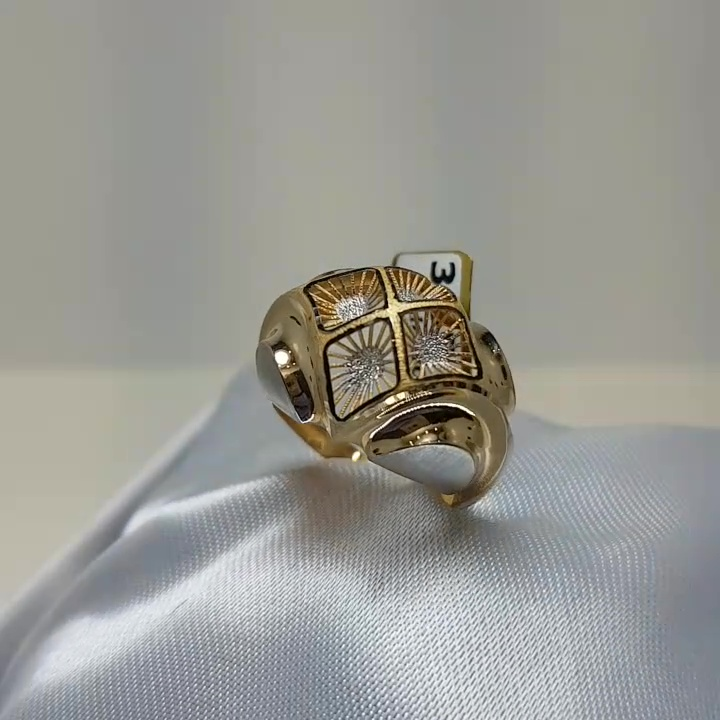Ring 2: (229, 246, 547, 510)
